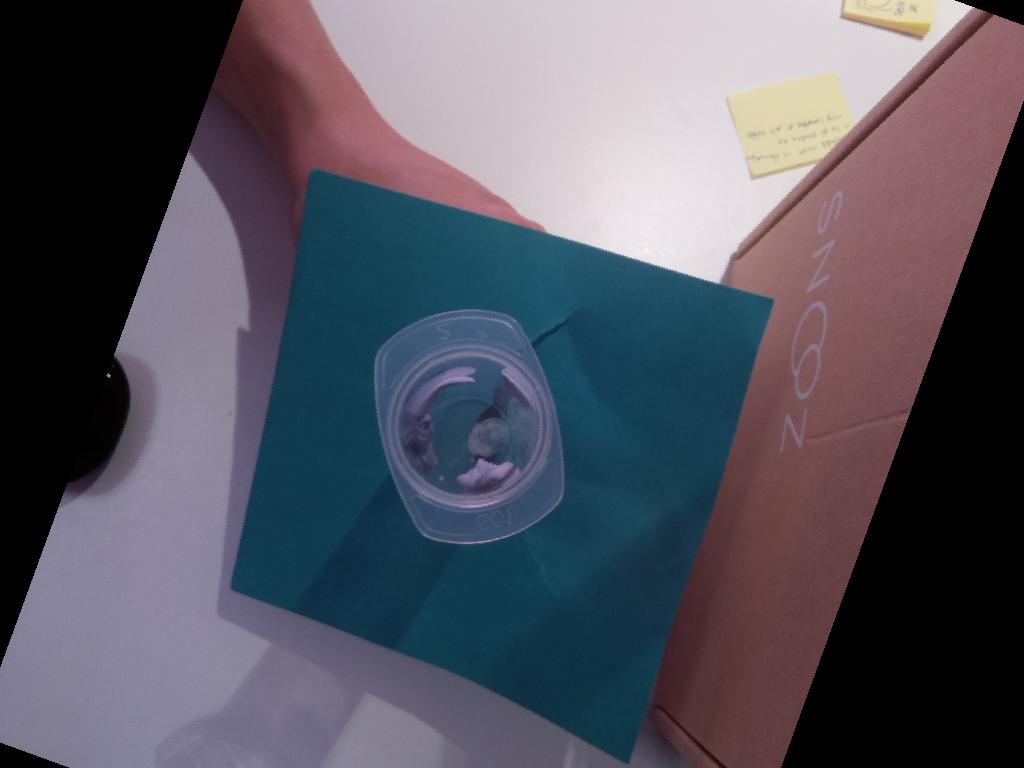dirty: (372, 307, 569, 543)
